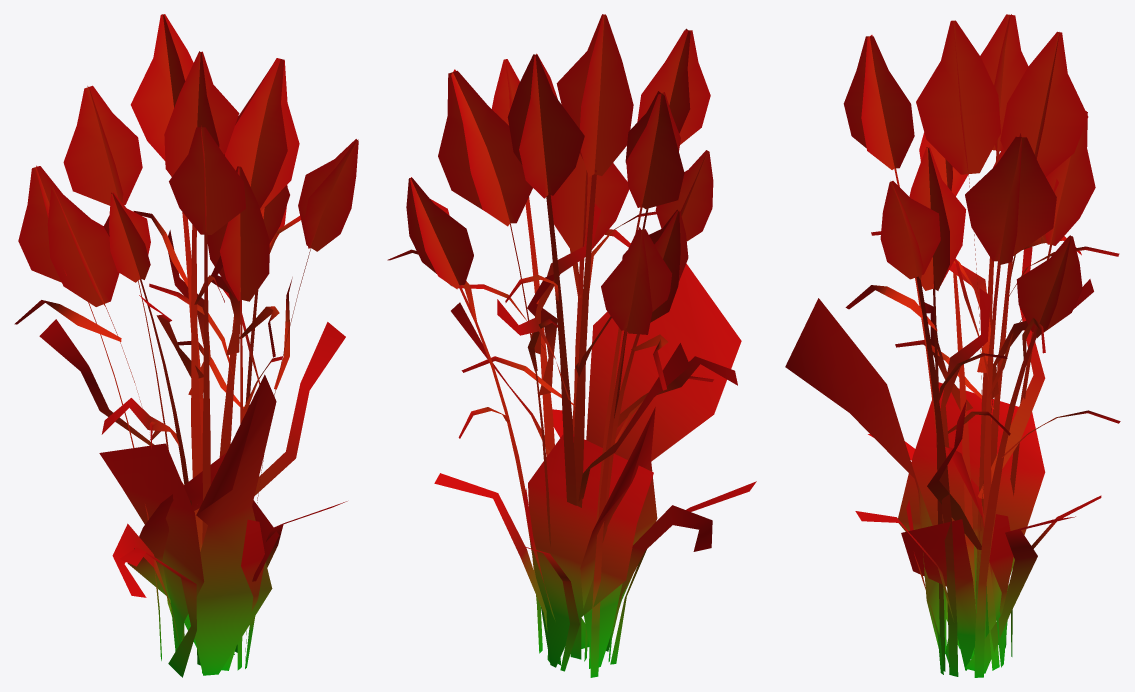
File: Dry Meadow Grass_LOD2_Var1_skljc.fbx
3 views of the same model, side by side, from view 1: azimuth 30°, elevation 25°; view 2: azimuth 150°, elevation 25°; view 3: azimuth 270°, elevation 25° (orthographic). The views are drawn at different scales.
Visible parts, largest first — view 1: _b791_Var1_LOD2; view 2: _b791_Var1_LOD2; view 3: _b791_Var1_LOD2.
Part boxes in pixels (x1,y1,x2,y2): _b791_Var1_LOD2: (14, 14, 358, 677); _b791_Var1_LOD2: (387, 14, 756, 677); _b791_Var1_LOD2: (785, 14, 1120, 677).
Bounding box in the file's own units: 41.67 × 85.97 × 41.12.
